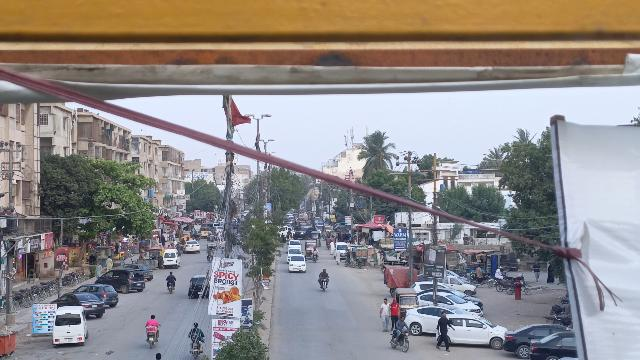Bike: (389, 329, 411, 353), (144, 330, 157, 350), (188, 340, 202, 358), (319, 276, 328, 292), (166, 283, 175, 296), (310, 252, 319, 264)
Car: (440, 315, 510, 350), (500, 321, 564, 355), (405, 304, 456, 337), (51, 305, 90, 347), (50, 290, 104, 319), (530, 331, 577, 359), (96, 269, 147, 294), (77, 280, 119, 307), (186, 273, 211, 299), (289, 252, 307, 275), (286, 247, 301, 260)
Person: (436, 309, 454, 354), (377, 295, 392, 332), (390, 298, 401, 328), (144, 312, 161, 330), (189, 320, 204, 339), (393, 313, 407, 331), (164, 270, 177, 284), (318, 268, 330, 279), (310, 245, 319, 253)
Rickshaw: (393, 285, 420, 321)
